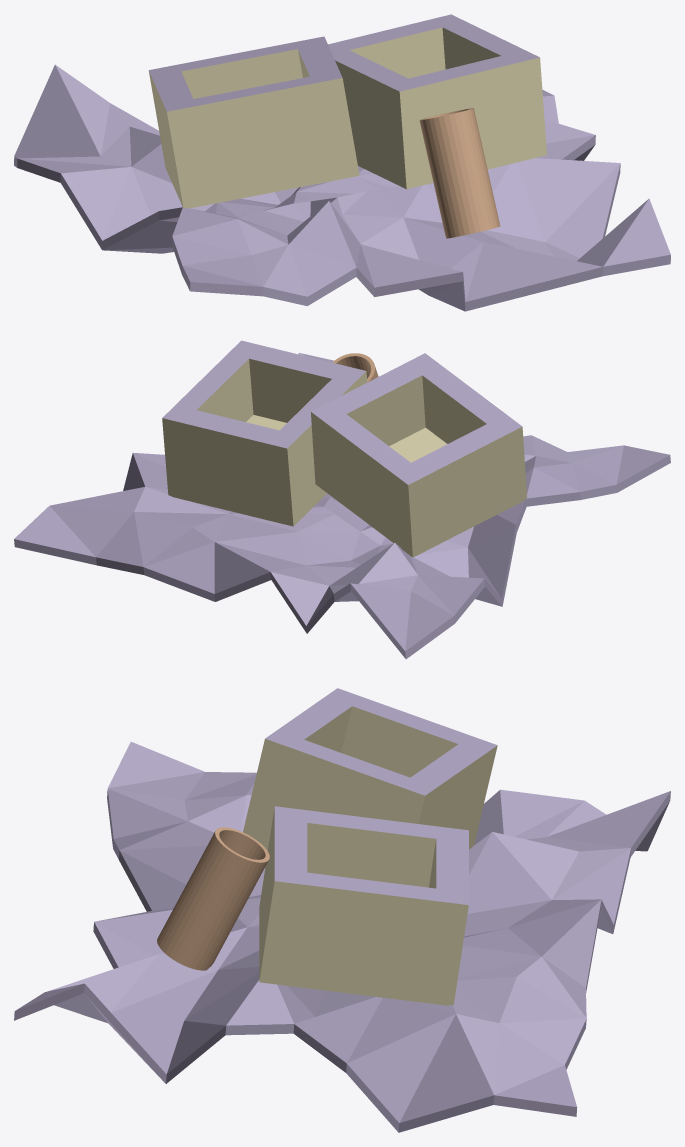
File: garbage.glb
3 renders of one model, top to bottom at view 1: azimuth 30°, elevation 25°; view 2: azimuth 150°, elevation 25°; view 3: azimuth 270°, elevation 25°, orthographic. The views are drawn at different scales.
Parts seen in each view (by area): view 1: Plane.002; view 2: Plane.002; view 3: Plane.002.
Boxes of the visible parts, box(x1,y1,x2,y2) form: Plane.002: box(14, 14, 670, 311); Plane.002: box(14, 340, 670, 659); Plane.002: box(14, 688, 670, 1132).
Bounding box in the file's own units: 0.5119 × 0.2034 × 0.5002.
